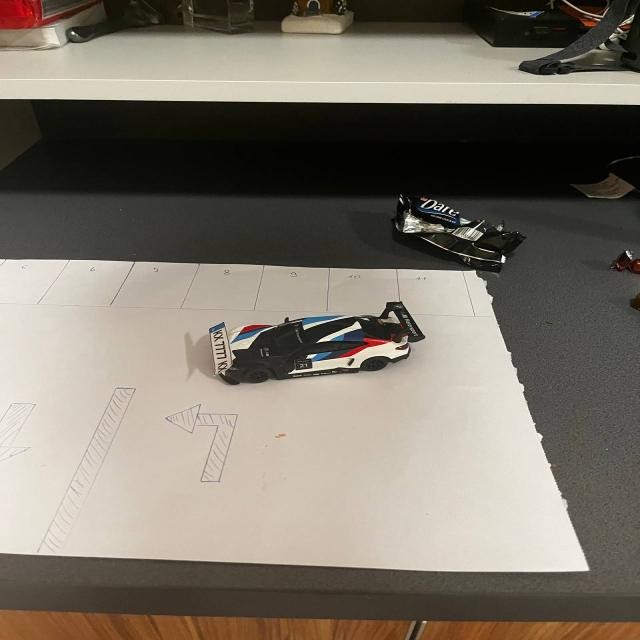KX 7777 KX: (207, 316, 238, 380)
